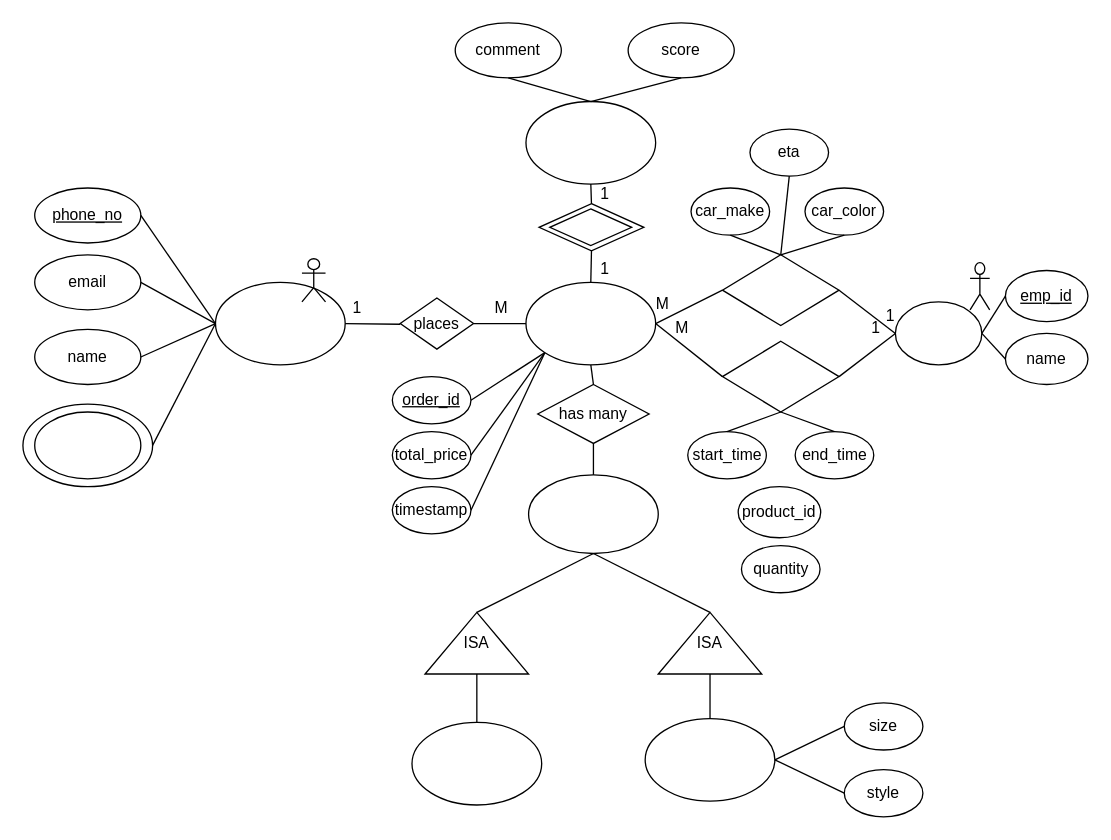
Image size: 1111x840. Some labels were removed from this diagram. The shapes that lost their labels are listed below. From the top down, each one's centre as x and y in pixels, then its label:
point 590,142: Review
point 590,227: has a
point 780,289: delivers
point 279,323: Customer
point 590,323: Order
point 938,333: Employee
point 780,376: bakes
point 87,445: address
point 592,513: Product
point 476,763: Side
point 709,759: Pizza
